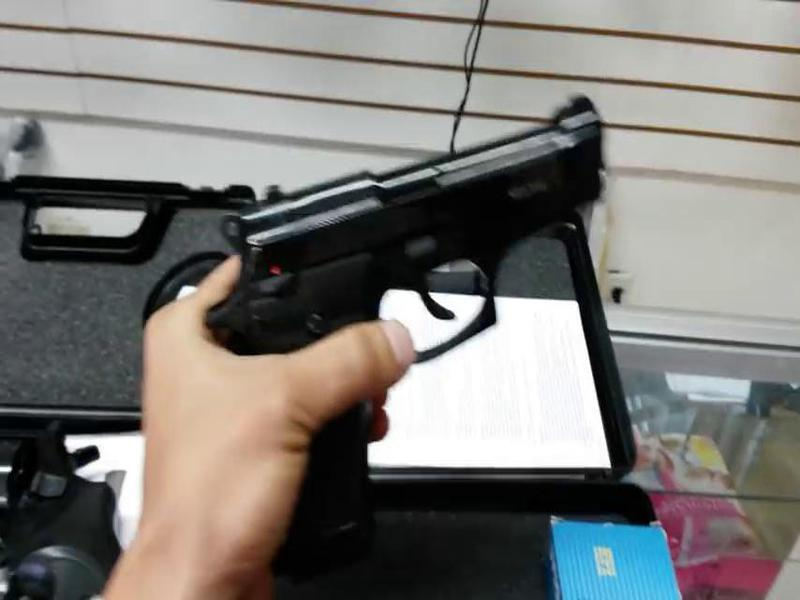Pistola: (201, 66, 628, 583)
